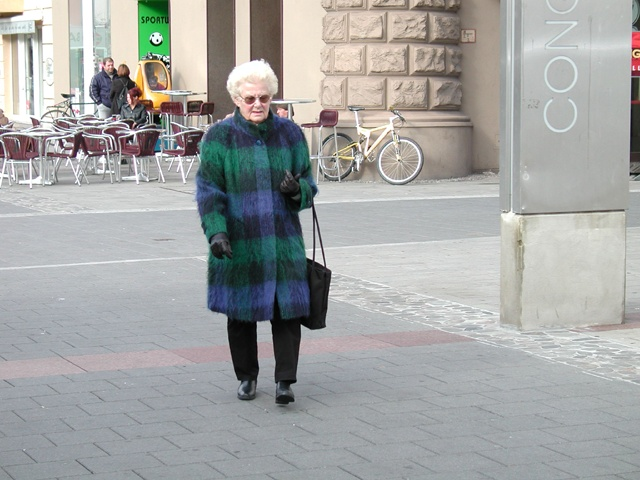person: (198, 61, 331, 404), (88, 49, 132, 155)
